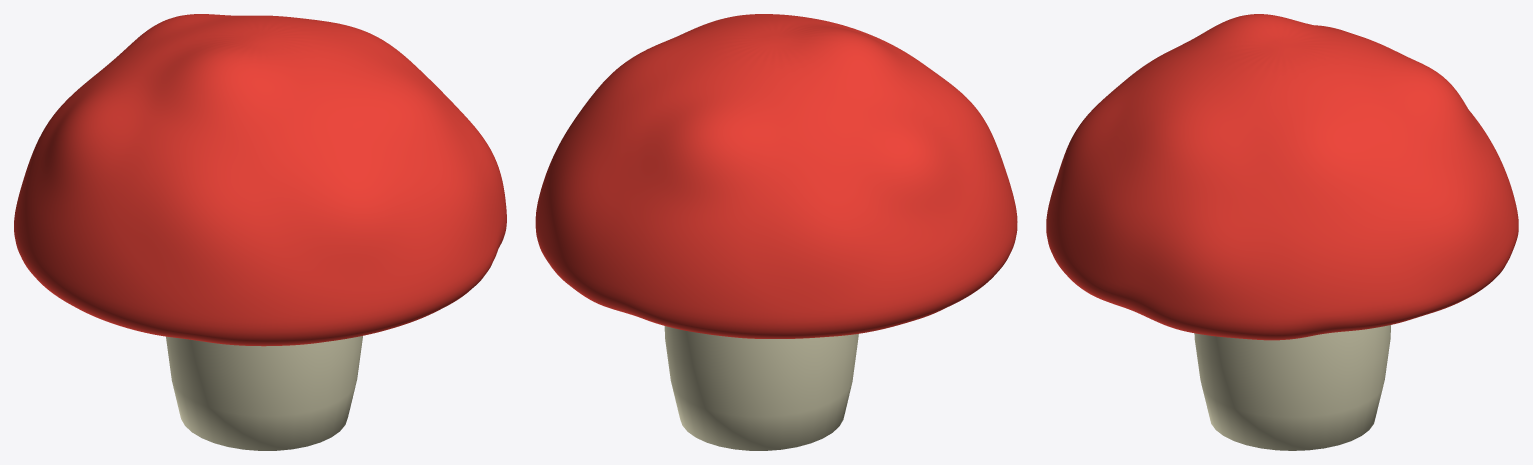
The model's file is mushroom.fbx.
The picture shows the model from 3 angles, left to right: view 1: azimuth 30°, elevation 25°; view 2: azimuth 150°, elevation 25°; view 3: azimuth 270°, elevation 25°; orthographic projection. The views are drawn at different scales.
Visible parts, largest first — view 1: Sphere.001, Sphere; view 2: Sphere.001, Sphere; view 3: Sphere.001, Sphere.
Part boxes in pixels (x1=…): Sphere.001: x1=14, y1=14, x2=506, y2=346; Sphere: x1=166, y1=336, x2=362, y2=450; Sphere.001: x1=535, y1=14, x2=1017, y2=338; Sphere: x1=664, y1=326, x2=858, y2=450; Sphere.001: x1=1046, y1=14, x2=1518, y2=340; Sphere: x1=1194, y1=325, x2=1390, y2=450.
Size of the model in its own units: 341 by 296 by 342.
